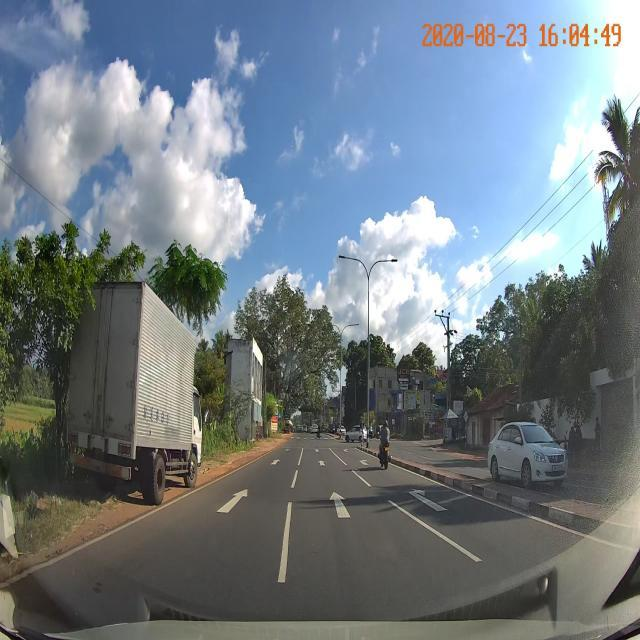forward: (270, 479, 427, 533)
